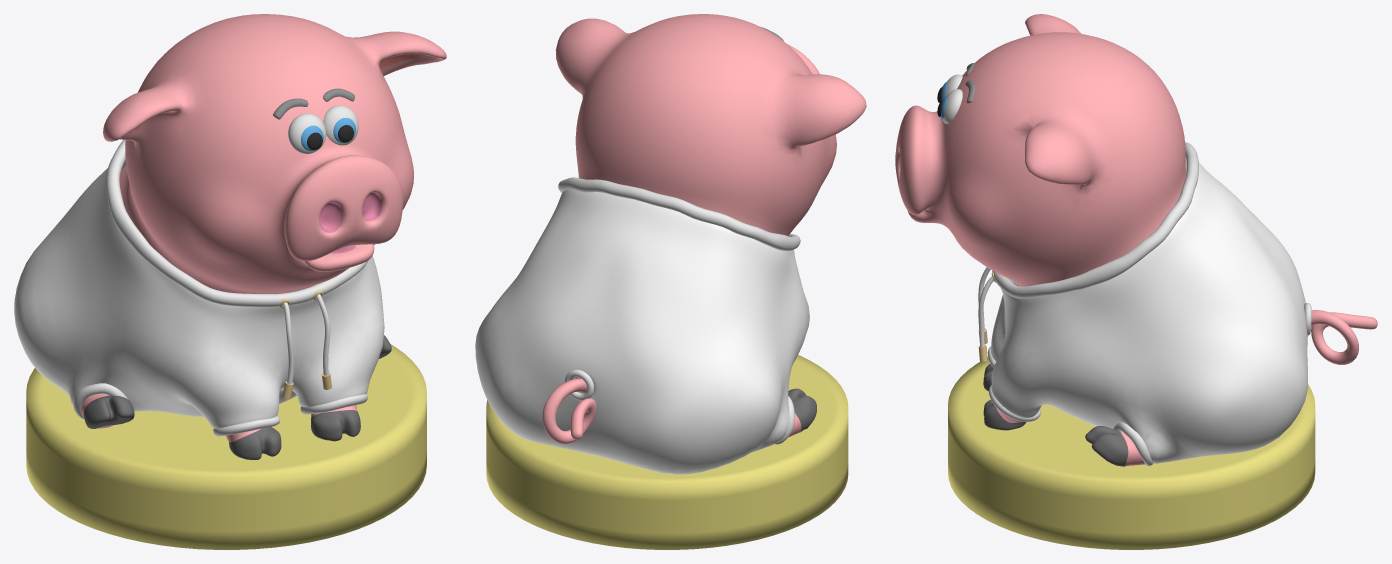
The model's file is pig_in_overalls.glb.
3 views of the same model, side by side, from view 1: azimuth 30°, elevation 25°; view 2: azimuth 150°, elevation 25°; view 3: azimuth 270°, elevation 25° (orthographic). The views are drawn at different scales.
Visible parts, largest first — view 1: Pig_7, Stand_11, Overalls_6, Collar_1, Sleeves_10, Eyes_3, Laces__5, Brows_0, Iris_4; view 2: Overalls_6, Pig_7, Stand_11, Collar_1, Sleeves_10; view 3: Pig_7, Overalls_6, Stand_11, Collar_1, Sleeves_10, Eyes_3.
Boxes of the visible parts, <box> form: Pig_7: <box>81,14,446,459</box>; Stand_11: <box>26,344,426,549</box>; Overalls_6: <box>14,160,384,428</box>; Collar_1: <box>106,140,368,307</box>; Sleeves_10: <box>73,383,367,436</box>; Eyes_3: <box>288,105,358,153</box>; Laces__5: <box>282,294,330,384</box>; Brows_0: <box>273,88,354,119</box>; Iris_4: <box>301,117,355,150</box>; Overalls_6: <box>475,189,809,474</box>; Pig_7: <box>542,14,866,444</box>; Stand_11: <box>486,355,848,549</box>; Collar_1: <box>558,177,800,250</box>; Sleeves_10: <box>564,369,794,444</box>; Pig_7: <box>895,14,1377,466</box>; Overalls_6: <box>991,157,1307,463</box>; Stand_11: <box>948,357,1315,549</box>; Collar_1: <box>992,142,1198,298</box>; Sleeves_10: <box>987,303,1311,465</box>; Eyes_3: <box>943,74,962,123</box>.
Size of the model in its own units: 1.22 by 1.56 by 1.6.
